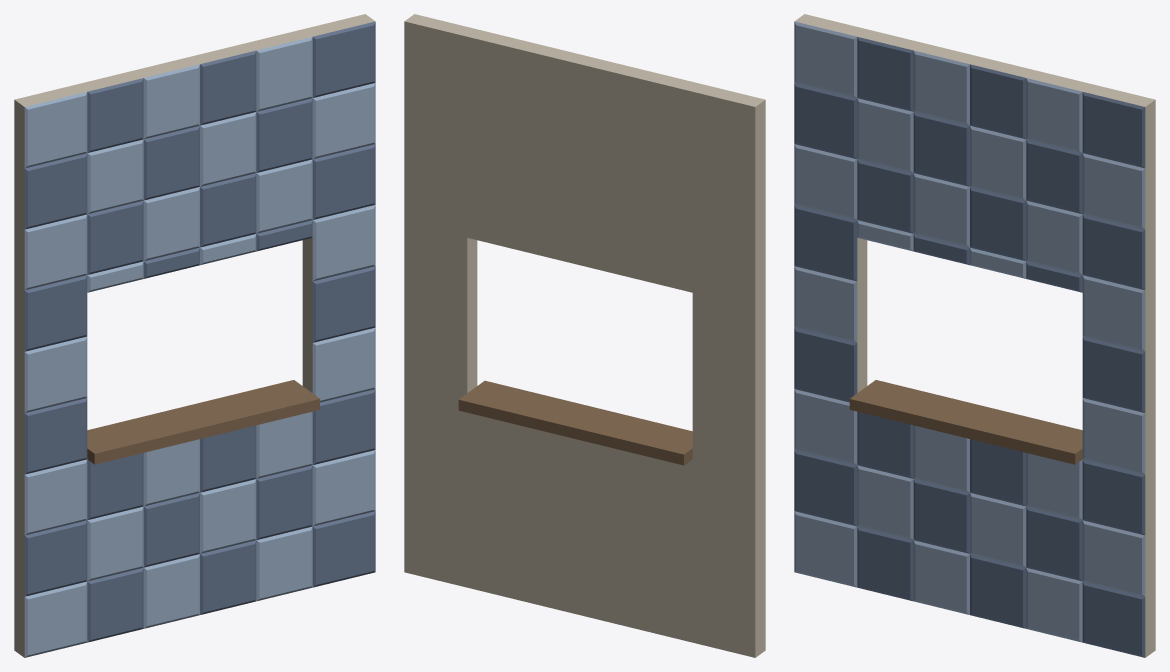
The model's file is Mesh_WallCeramic_N3.fbx.
3 renders of one model, left to right at view 1: azimuth 30°, elevation 25°; view 2: azimuth 150°, elevation 25°; view 3: azimuth 330°, elevation 25°, orthographic.
Visible parts, largest first — view 1: Mesh_WallCeramic_N3; view 2: Mesh_WallCeramic_N3; view 3: Mesh_WallCeramic_N3.
Boxes of the visible parts, left/top/right/bottom form: Mesh_WallCeramic_N3: left=14, top=14, right=375, bottom=657; Mesh_WallCeramic_N3: left=404, top=14, right=765, bottom=657; Mesh_WallCeramic_N3: left=794, top=14, right=1155, bottom=657.
Size of the model in its own units: 2 by 3 by 0.2574.
